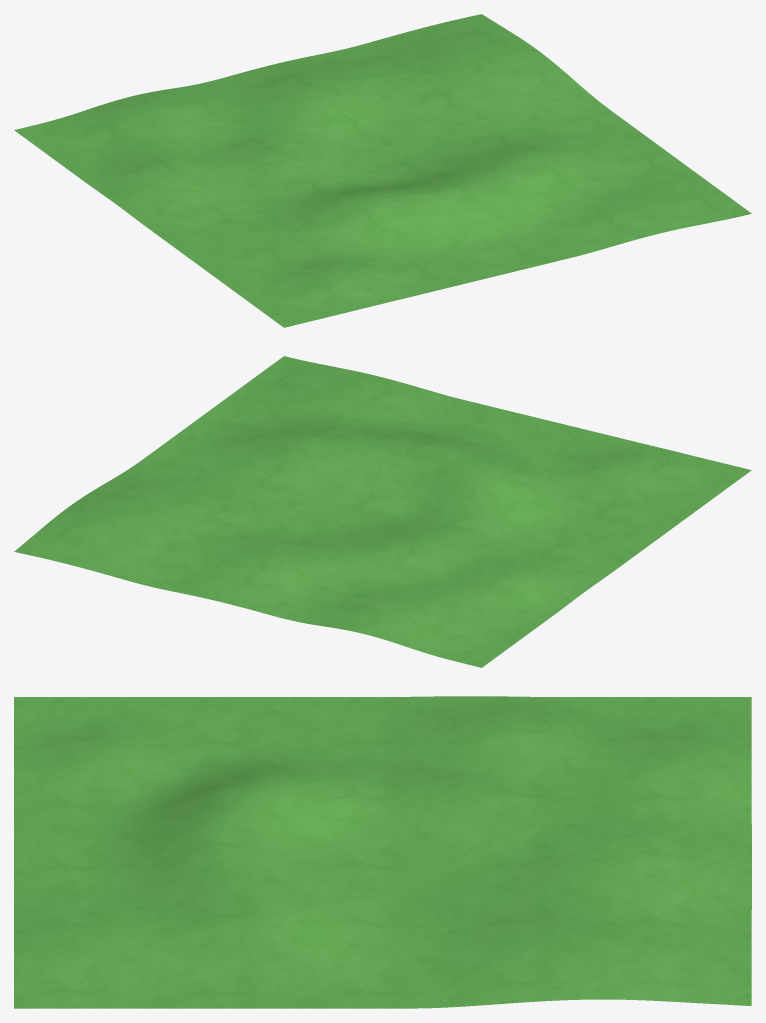
Rendered from game.glb.
3 renders of one model, top to bottom at view 1: azimuth 30°, elevation 25°; view 2: azimuth 150°, elevation 25°; view 3: azimuth 270°, elevation 25°, orthographic. The views are drawn at different scales.
Parts seen in each view (by area): view 1: Plane; view 2: Plane; view 3: Plane.
Part boxes in pixels (<box>): Plane: <box>14,14,751,327</box>; Plane: <box>14,356,751,667</box>; Plane: <box>14,696,751,1008</box>.
Size of the model in its own units: 200 by 7.97 by 200.
1 material, 1 textured.
